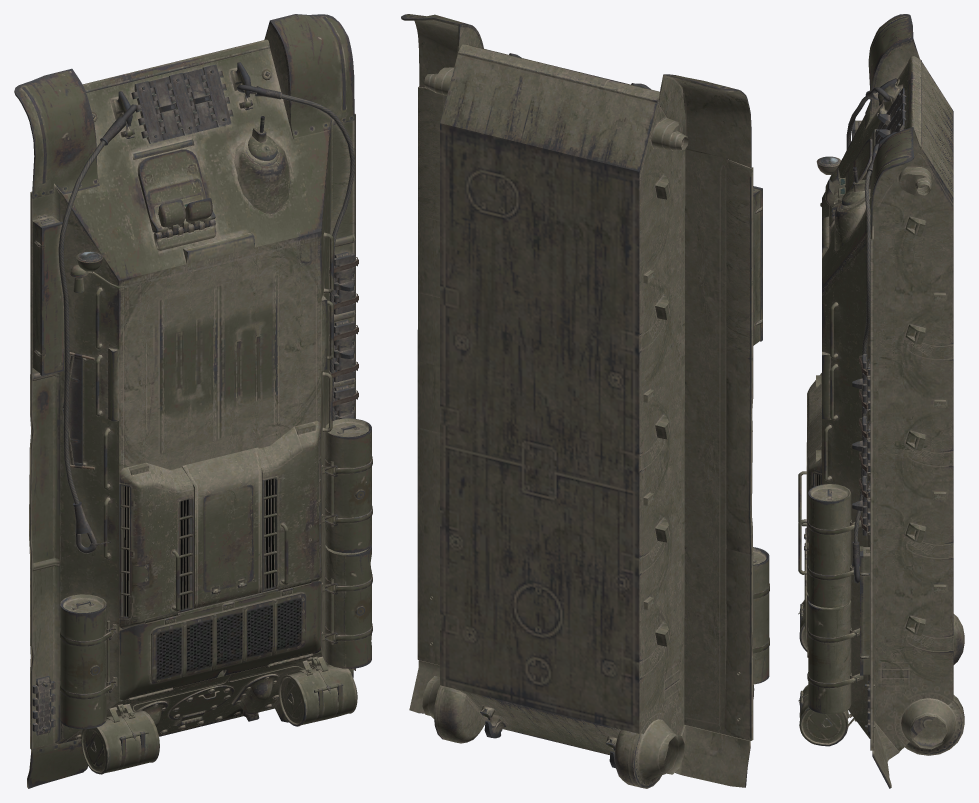
File: Hull.glb
3 renders of one model, left to right at view 1: azimuth 30°, elevation 25°; view 2: azimuth 150°, elevation 25°; view 3: azimuth 270°, elevation 25°, orthographic. The views are drawn at different scales.
Visible parts, largest first — view 1: set_0_group_0; view 2: set_0_group_0; view 3: set_0_group_0.
Part boxes in pixels (x1,y1,x2,y2): set_0_group_0: (14,14,372,788); set_0_group_0: (401,14,769,788); set_0_group_0: (798,14,964,788).
Size of the model in its own units: 3.01 by 6.1 by 1.45.
1 material, 1 textured.
